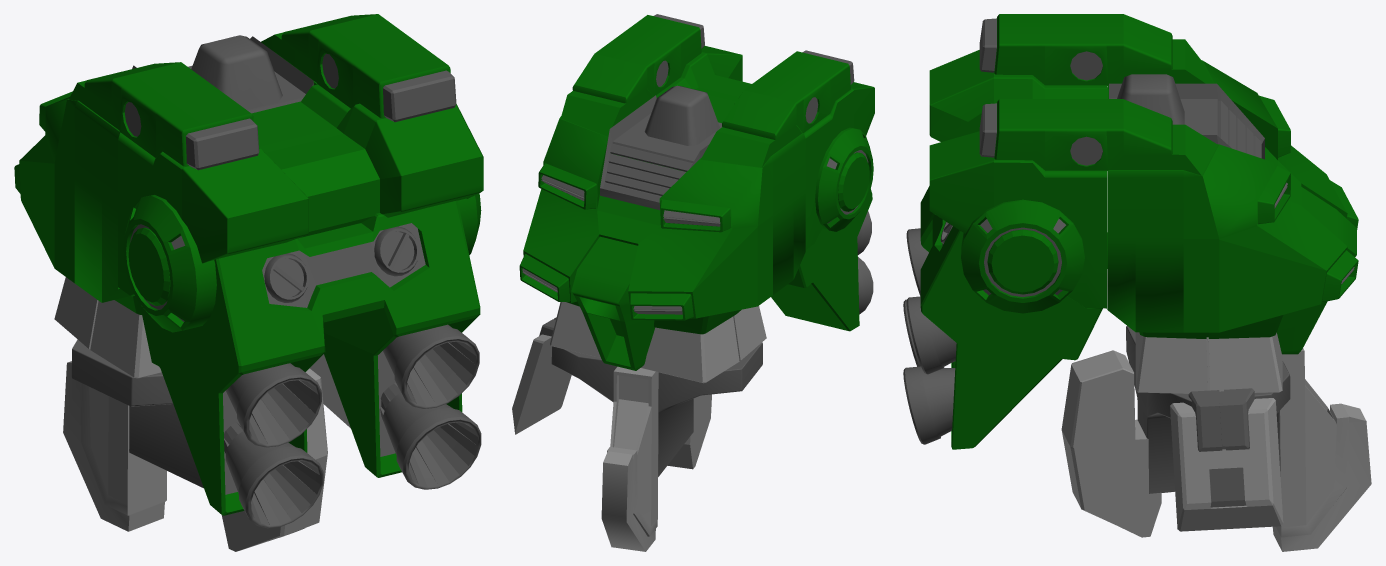
The model's file is CardiganUpdate2.fbx.
3 views of the same model, side by side, from view 1: azimuth 30°, elevation 25°; view 2: azimuth 150°, elevation 25°; view 3: azimuth 270°, elevation 25° (orthographic). The views are drawn at different scales.
Visible parts, largest first — view 1: Torso, Waist, R_Skirt; view 2: Torso, Waist, R_Skirt; view 3: Torso, Waist, R_Skirt.
Part boxes in pixels (x1,y1,x2,y2): Torso: (14, 14, 483, 528); Waist: (63, 339, 327, 551); R_Skirt: (309, 354, 350, 428); Torso: (519, 14, 874, 383); Waist: (551, 342, 762, 551); R_Skirt: (512, 317, 571, 434); Torso: (903, 14, 1358, 449); Waist: (1061, 326, 1371, 551); R_Skirt: (1170, 388, 1283, 531).
Size of the model in its own units: 10.91 by 17.94 by 15.94.
